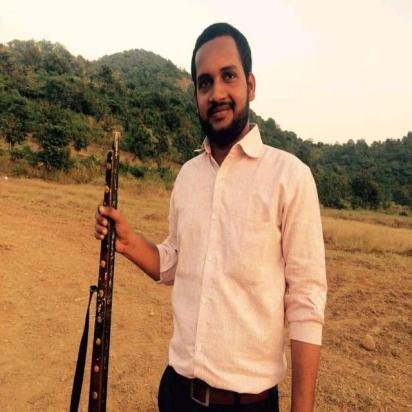Gun: (86, 130, 122, 412)
